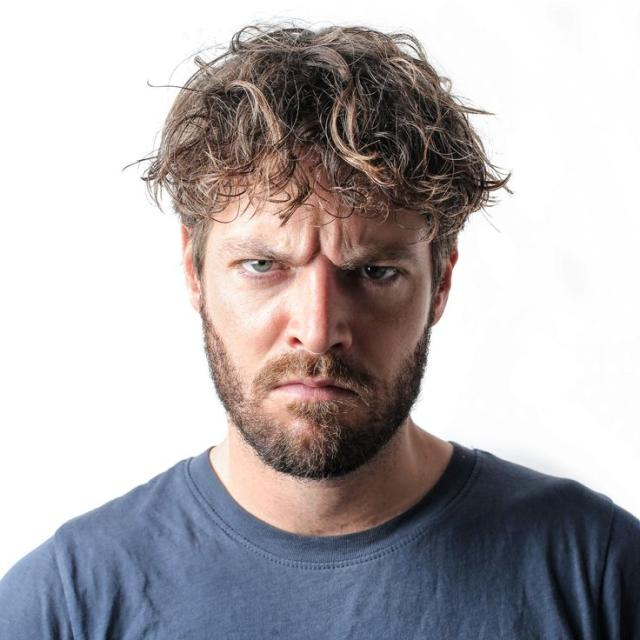sem_oculos: (162, 198, 464, 310)
